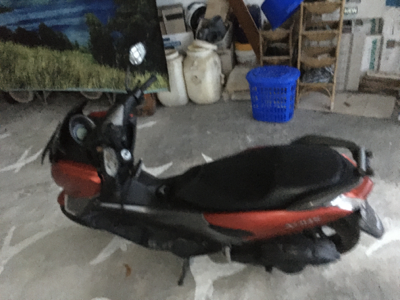moto: (54, 73, 381, 278)
